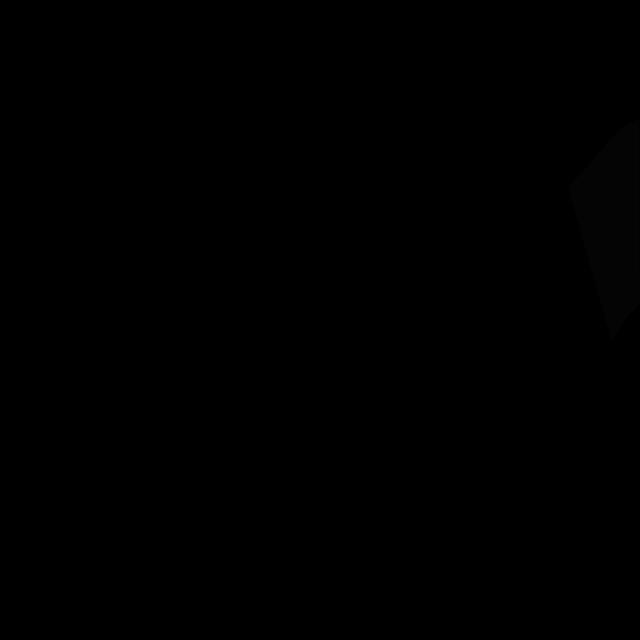soft_plastic: (568, 118, 640, 342)
